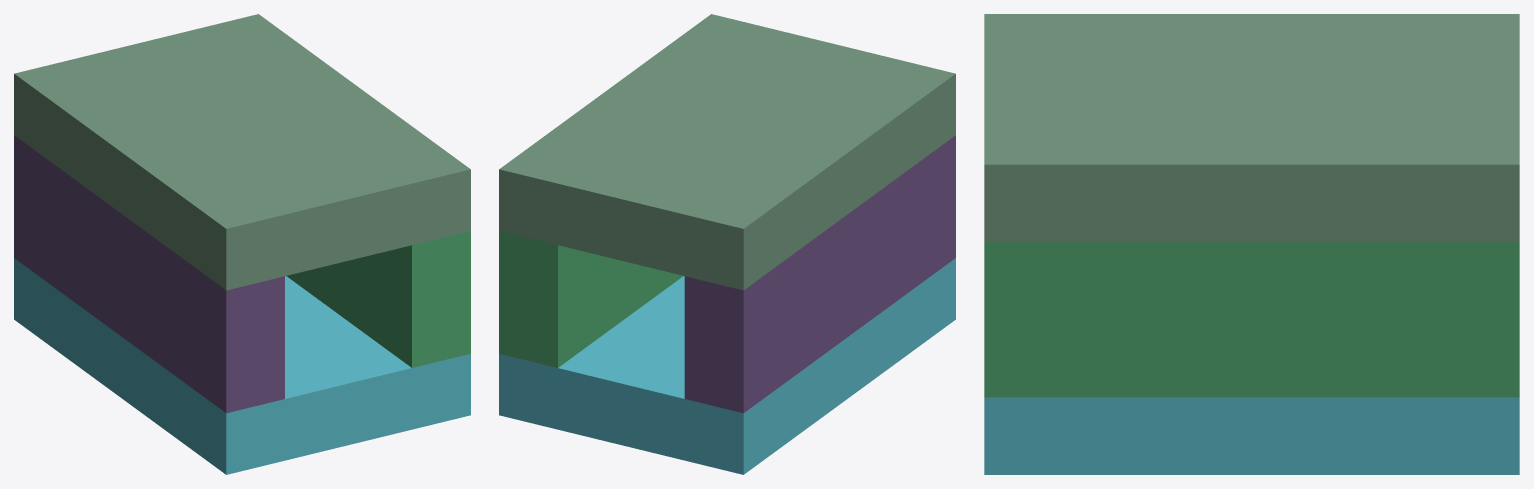
The model's file is one_leg.obj.
3 views of the same model, side by side, from view 1: azimuth 30°, elevation 25°; view 2: azimuth 150°, elevation 25°; view 3: azimuth 270°, elevation 25° (orthographic). The views are drawn at different scales.
Visible parts, largest first — view 1: geometry_0, geometry_2, geometry_1, geometry_3; view 2: geometry_0, geometry_2, geometry_1, geometry_3; view 3: geometry_0, geometry_3, geometry_2.
Boxes of the visible parts, x1,y1,x2,y2 form: geometry_0: (14, 14, 470, 290); geometry_2: (14, 258, 470, 474); geometry_1: (14, 135, 284, 413); geometry_3: (286, 231, 470, 367); geometry_0: (499, 14, 955, 290); geometry_2: (499, 258, 955, 474); geometry_1: (684, 135, 955, 413); geometry_3: (499, 231, 683, 367); geometry_0: (984, 14, 1519, 242); geometry_3: (984, 242, 1519, 397); geometry_2: (984, 397, 1519, 474).
Bounding box in the file's own units: 0.0208 × 0.02 × 0.0312.
